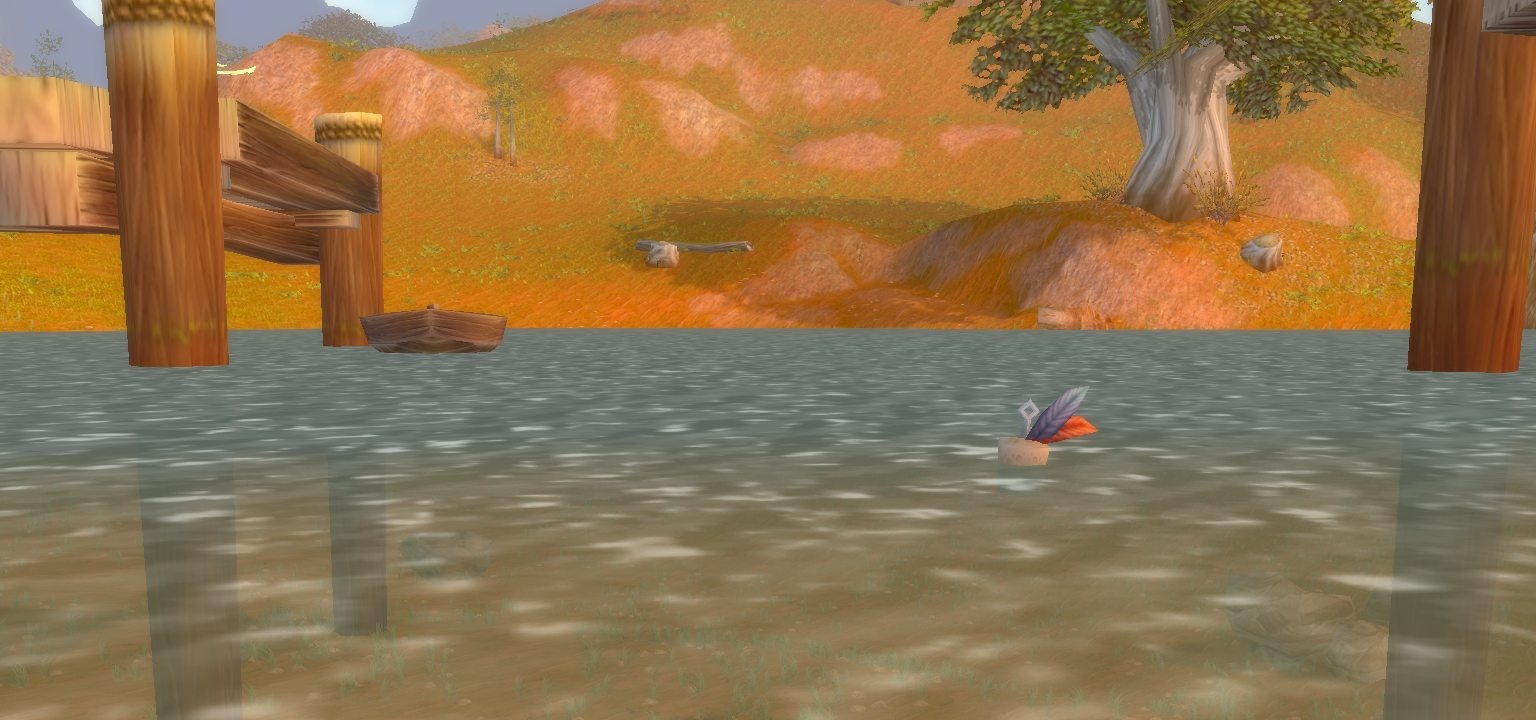Bobber: (994, 384, 1104, 466)
